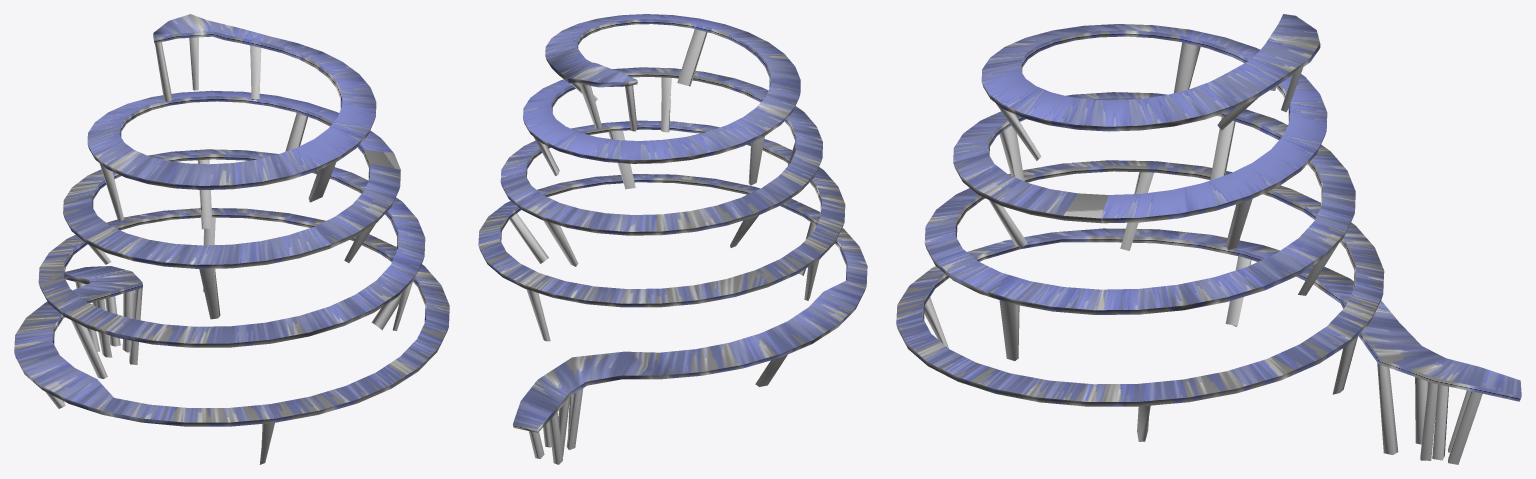
File: ecto_burger_23_ramp.fbx
3 views of the same model, side by side, from view 1: azimuth 30°, elevation 25°; view 2: azimuth 150°, elevation 25°; view 3: azimuth 270°, elevation 25° (orthographic). The views are drawn at different scales.
Visible parts, largest first — view 1: RAMP, RAMP_VERT_STRUTS; view 2: RAMP, RAMP_VERT_STRUTS; view 3: RAMP, RAMP_VERT_STRUTS.
Part boxes in pixels (left/top/right/bottom): RAMP: left=14, top=14, right=449, bottom=426; RAMP_VERT_STRUTS: left=46, top=37, right=413, bottom=464; RAMP: left=478, top=14, right=867, bottom=432; RAMP_VERT_STRUTS: left=509, top=29, right=819, bottom=464; RAMP: left=896, top=14, right=1521, bottom=406; RAMP_VERT_STRUTS: left=924, top=42, right=1482, bottom=464.
Size of the model in its own units: 76.16 by 72.55 by 94.54.
